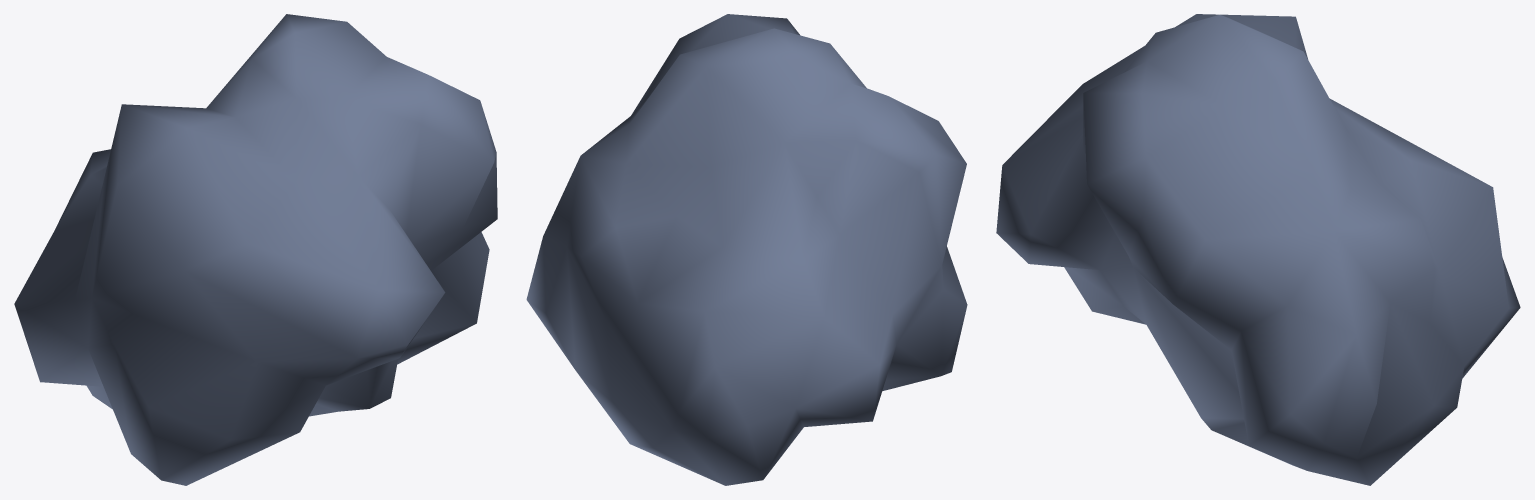
The model's file is Mgenitalium_1sbq_0_1_0.dae.
3 views of the same model, side by side, from view 1: azimuth 30°, elevation 25°; view 2: azimuth 150°, elevation 25°; view 3: azimuth 270°, elevation 25° (orthographic). The views are drawn at different scales.
Parts seen in each view (by area): view 1: _1sbqACMS; view 2: _1sbqACMS; view 3: _1sbqACMS.
Part boxes in pixels (<box>): _1sbqACMS: <box>14,14,497,485</box>; _1sbqACMS: <box>526,14,967,485</box>; _1sbqACMS: <box>996,14,1520,485</box>.
Bounding box in the file's own units: 44.02 × 43.94 × 47.67.
